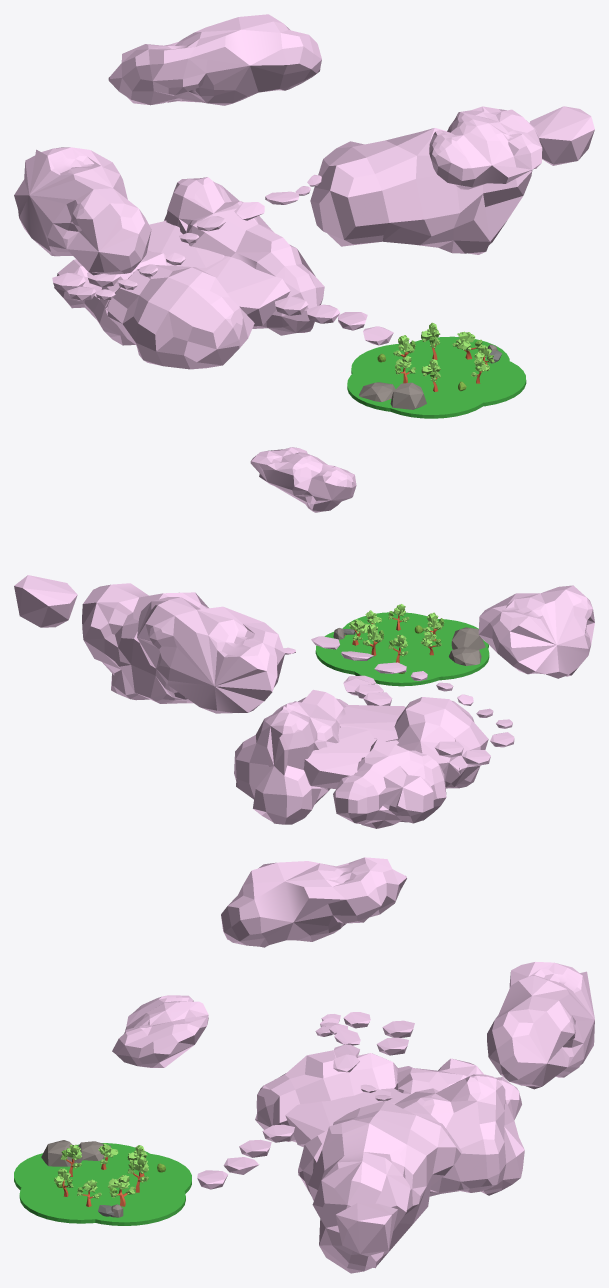
The model's file is level2.glb.
3 views of the same model, one above another, from view 1: azimuth 30°, elevation 25°; view 2: azimuth 150°, elevation 25°; view 3: azimuth 270°, elevation 25° (orthographic). The views are drawn at different scales.
Visible parts, largest first — view 1: Cloud_4, Cloud_4.001, Cloud_4.002, Cloud_1, Cloud_2, Cloud_4.003, Rock4.008, Rock4.004, Cylindre.005, Cylindre, Cloud_3, Rock4.009 (+6 smaller); view 2: Cloud_4.001, Cloud_2, Cloud_4.002, Cloud_3, Cloud_4, Cloud_1, Cloud_4.003, Cylindre.003, Rock4.009, Rock4.004, Cylindre, Cylindre.004 (+6 smaller); view 3: Cloud_4, Cloud_4.002, Cloud_4.001, Cloud_2, Cloud_1, Cloud_4.003, Cylindre.001, Cylindre.003, Rock4.004, Rock4.008, Cloud_3, Cylindre.005 (+4 smaller).
Part boxes in pixels (x1,y1,x2,y2): Cloud_4: (310,128,532,254); Cloud_4.001: (108,14,321,105); Cloud_4.002: (14,147,151,275); Cloud_1: (105,265,254,369); Cloud_2: (164,177,324,335); Cloud_4.003: (429,106,542,189); Rock4.008: (197,256,290,326); Rock4.004: (529,106,594,165); Cylindre.005: (407,353,526,406); Cylindre: (381,347,500,397); Cloud_3: (54,250,172,345); Rock4.009: (147,220,224,267); Cloud_4.001: (137,597,284,713); Cloud_2: (234,689,347,824); Cloud_4.002: (478,585,594,678); Cloud_3: (333,739,446,828); Cloud_4: (82,583,208,703); Cloud_1: (394,697,488,788); Cloud_4.003: (250,447,356,512); Cylindre.003: (346,636,456,686); Rock4.009: (303,726,398,789); Rock4.004: (14,575,77,627); Cylindre: (341,623,451,669); Cylindre.004: (315,625,426,674); Cloud_4: (308,1100,461,1273); Cloud_4.002: (221,857,406,947); Cloud_4.001: (487,961,594,1089); Cloud_2: (298,1074,524,1196); Cloud_1: (255,1050,398,1142); Cloud_4.003: (112,995,208,1067); Cylindre.001: (14,1153,134,1199); Cylindre.003: (83,1154,191,1202); Rock4.004: (335,1203,397,1256); Rock4.008: (285,1089,391,1147); Cloud_3: (394,1058,521,1119); Cylindre.005: (19,1171,140,1223).
Size of the model in its own units: 332 by 143 by 283.
